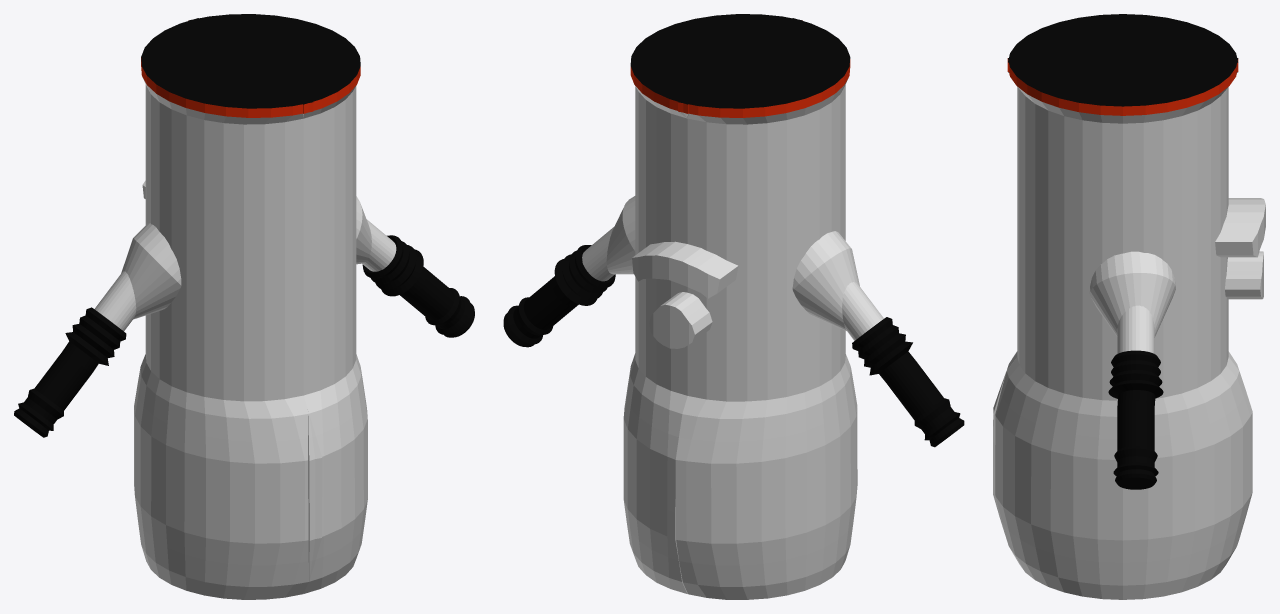
The model's file is pipeEnd.fbx.
The picture shows the model from 3 angles, left to right: view 1: azimuth 30°, elevation 25°; view 2: azimuth 150°, elevation 25°; view 3: azimuth 270°, elevation 25°; orthographic projection.
Parts seen in each view (by area): view 1: Цилиндр; view 2: Цилиндр; view 3: Цилиндр.
Part boxes in pixels (left/top/right/bottom): Цилиндр: left=14, top=14, right=474, bottom=599; Цилиндр: left=503, top=14, right=964, bottom=599; Цилиндр: left=993, top=14, right=1265, bottom=599.
Size of the model in its own units: 49.77 by 51.74 by 25.83.
